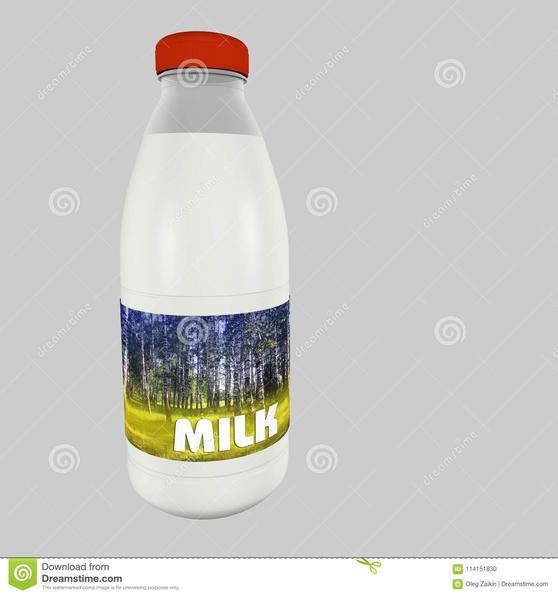milk: (81, 23, 312, 530)
